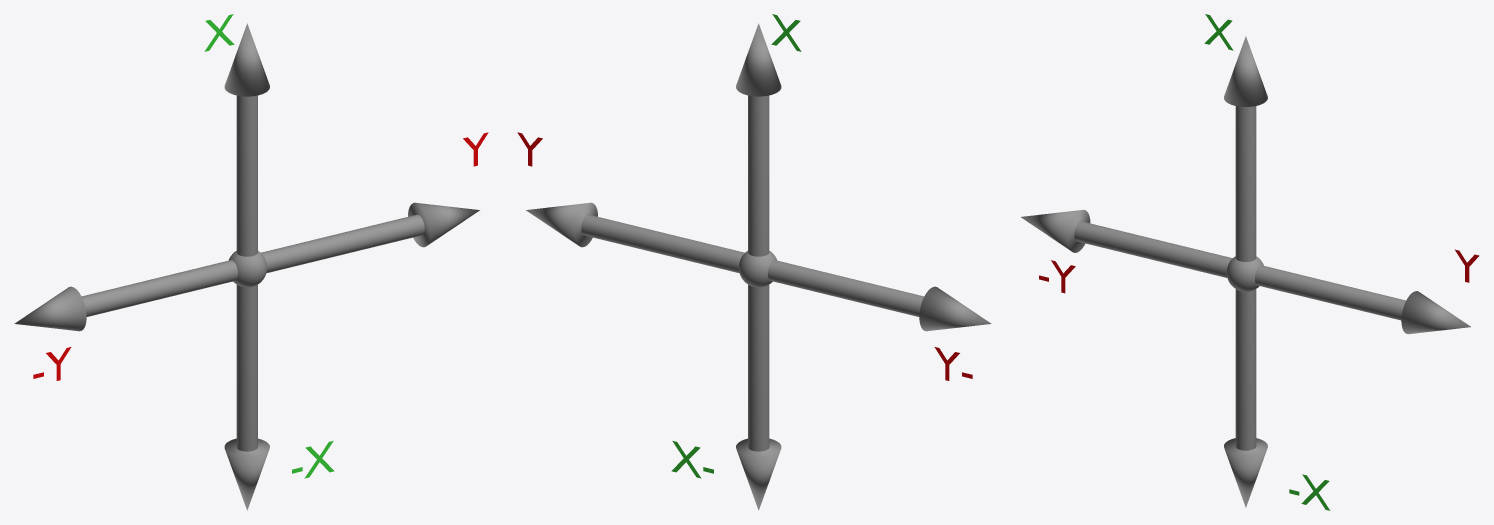
The model's file is 10_plano cartesiano x y.fbx.
The picture shows the model from 3 angles, left to right: view 1: azimuth 30°, elevation 25°; view 2: azimuth 150°, elevation 25°; view 3: azimuth 330°, elevation 25°; orthographic projection. The views are drawn at different scales.
Visible parts, largest first — view 1: Cylinder, Cylinder.001, Cone, Cone.002, Cone.001, Cone.003, Sphere; view 2: Cylinder, Cylinder.001, Cone, Cone.002, Cone.001, Cone.003, Sphere; view 3: Cylinder, Cylinder.001, Cone.003, Cone, Cone.001, Cone.002, Sphere.
Boxes of the visible parts, x1,y1,x2,y2 form: Cylinder: [236, 95, 257, 451]; Cylinder.001: [81, 214, 424, 316]; Cone: [224, 23, 269, 96]; Cone.002: [14, 286, 86, 331]; Cone.001: [224, 438, 269, 510]; Cone.003: [408, 202, 479, 247]; Sphere: [228, 251, 267, 287]; Cylinder: [748, 95, 769, 451]; Cylinder.001: [581, 214, 924, 316]; Cone: [736, 23, 781, 96]; Cone.002: [919, 286, 991, 331]; Cone.001: [736, 438, 781, 510]; Cone.003: [526, 202, 597, 247]; Sphere: [738, 251, 777, 287]; Cylinder: [1235, 106, 1256, 450]; Cylinder.001: [1074, 221, 1405, 320]; Cone.003: [1401, 291, 1470, 334]; Cone: [1224, 36, 1267, 106]; Cone.001: [1224, 438, 1267, 507]; Cone.002: [1021, 209, 1090, 252]; Sphere: [1226, 256, 1263, 291].
Size of the model in its own units: 1101 by 1109 by 91.87.
